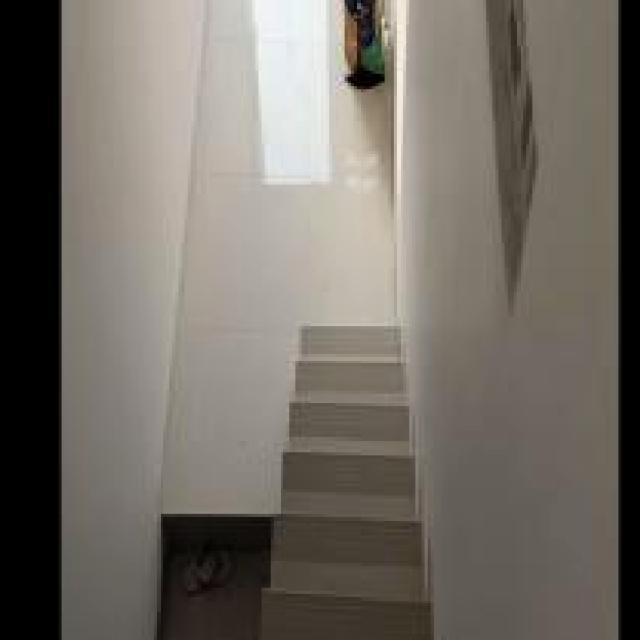downstair: (266, 290, 438, 640)
